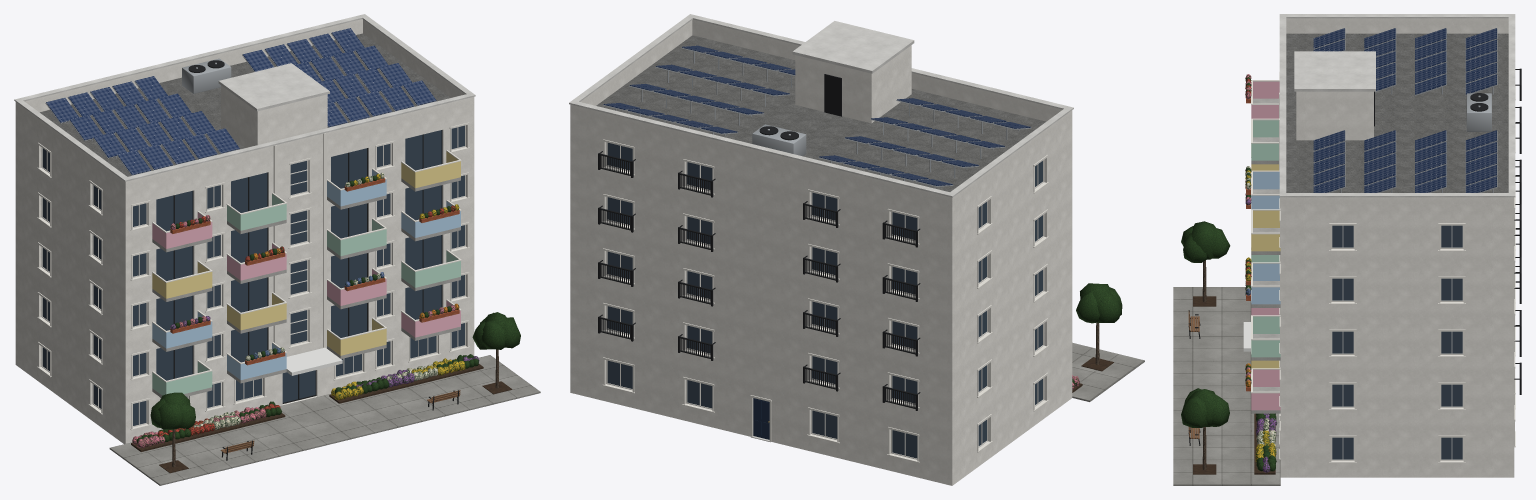
The model's file is balcony-apartments.glb.
3 views of the same model, side by side, from view 1: azimuth 30°, elevation 25°; view 2: azimuth 150°, elevation 25°; view 3: azimuth 270°, elevation 25° (orthographic). The views are drawn at different scales.
Visible parts, largest first — view 1: Balcony_Apartments; view 2: Balcony_Apartments; view 3: Balcony_Apartments.
Boxes of the visible parts, x1=… form: Balcony_Apartments: x1=14, y1=14, x2=540, y2=485; Balcony_Apartments: x1=569, y1=14, x2=1144, y2=485; Balcony_Apartments: x1=1173, y1=14, x2=1521, y2=485.
Bounding box in the file's own units: 24 × 17.95 × 17.86.
31 materials, 18 textured.
